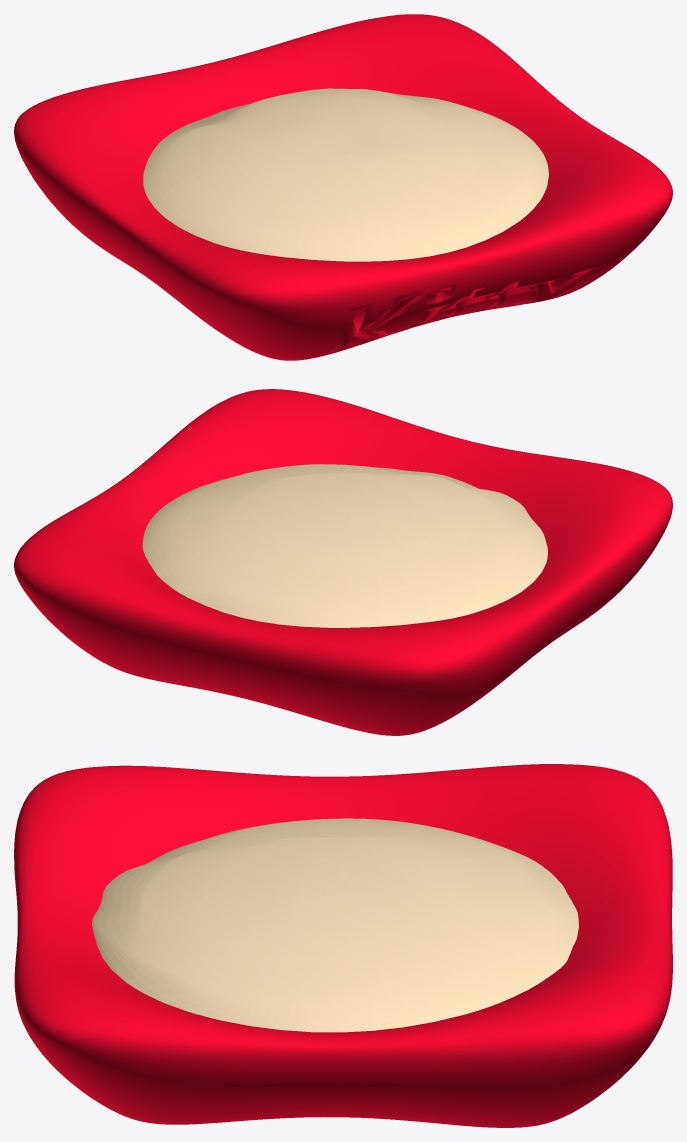
Rendered from bowl full of food.fbx.
3 views of the same model, one above another, from view 1: azimuth 30°, elevation 25°; view 2: azimuth 150°, elevation 25°; view 3: azimuth 270°, elevation 25° (orthographic). The views are drawn at different scales.
Parts seen in each view (by area): view 1: cat bowl, Sphere.001; view 2: cat bowl, Sphere.001; view 3: cat bowl, Sphere.001.
Part boxes in pixels (x1=…): cat bowl: x1=14, y1=14, x2=672, y2=360; Sphere.001: x1=143, y1=88, x2=548, y2=261; cat bowl: x1=14, y1=389, x2=672, y2=735; Sphere.001: x1=142, y1=464, x2=547, y2=627; cat bowl: x1=14, y1=764, x2=672, y2=1127; Sphere.001: x1=92, y1=818, x2=578, y2=1032.
Bounding box in the file's own units: 123 × 123 × 32.97.
